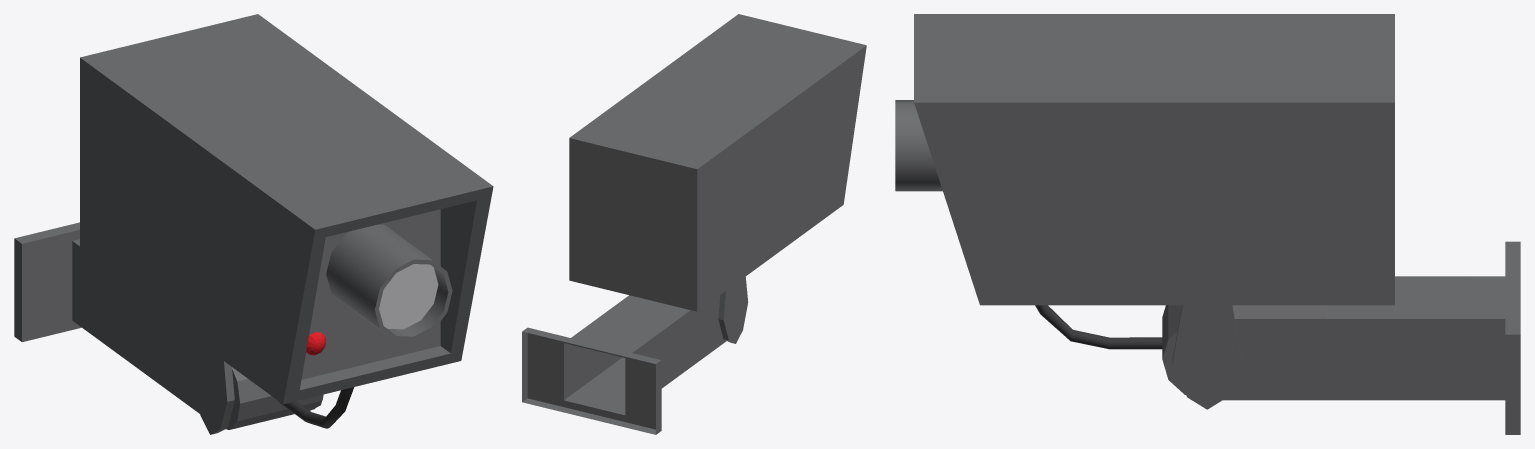
Rendered from Camera 2.fbx.
The picture shows the model from 3 angles, left to right: view 1: azimuth 30°, elevation 25°; view 2: azimuth 150°, elevation 25°; view 3: azimuth 270°, elevation 25°; orthographic projection. The views are drawn at different scales.
Parts seen in each view (by area): view 1: Camera_2; view 2: Camera_2; view 3: Camera_2.
Part boxes in pixels (bbox=[...]): Camera_2: bbox=[14, 14, 493, 434]; Camera_2: bbox=[522, 14, 866, 434]; Camera_2: bbox=[895, 14, 1520, 434].
Bounding box in the file's own units: 16.58 × 27.53 × 47.26.
